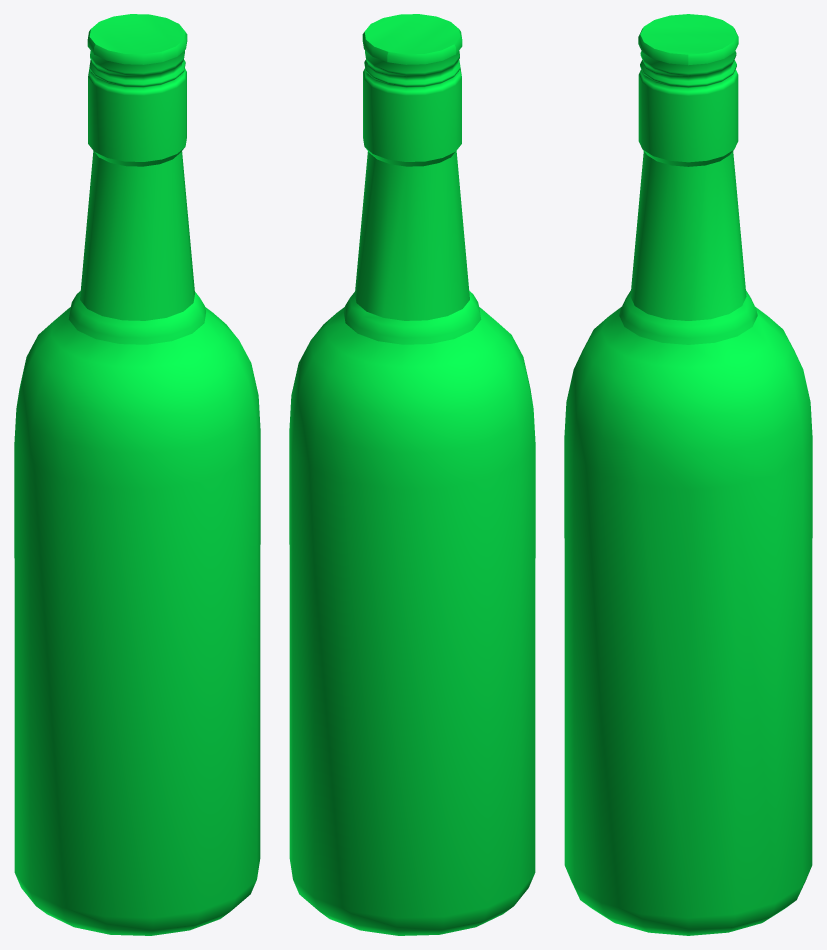
The model's file is WineBorttle.fbx.
3 views of the same model, side by side, from view 1: azimuth 30°, elevation 25°; view 2: azimuth 150°, elevation 25°; view 3: azimuth 270°, elevation 25° (orthographic).
Visible parts, largest first — view 1: Ergutou_Low; view 2: Ergutou_Low; view 3: Ergutou_Low.
Boxes of the visible parts, x1,y1,x2,y2 form: Ergutou_Low: (14, 14, 260, 935); Ergutou_Low: (289, 14, 535, 935); Ergutou_Low: (564, 14, 812, 935).
Bounding box in the file's own units: 5.41 × 20.78 × 5.41.
